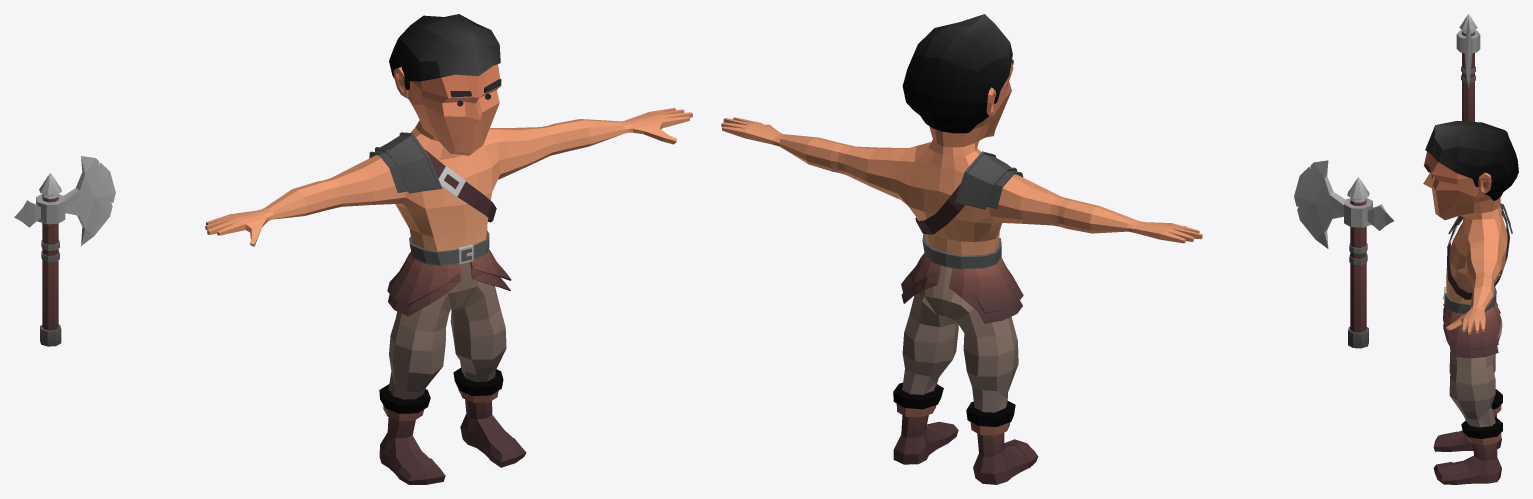
Rendered from low-poly-medivial-warrior-renderer.obj.
3 renders of one model, left to right at view 1: azimuth 30°, elevation 25°; view 2: azimuth 150°, elevation 25°; view 3: azimuth 270°, elevation 25°, orthographic. The views are drawn at different scales.
Visible parts, largest first — view 1: BaseMesh, Trousers, Bots, Axe, Hair, Belt_Wrap, Pauldron, Belt_Wrap.001, Belt, Baldric; view 2: BaseMesh, Trousers, Hair, Bots, Axe, Belt_Wrap, Pauldron, Belt_Wrap.001, Belt, Baldric; view 3: BaseMesh, Hair, Bots, Trousers, Axe, Belt_Wrap, Baldric, Belt_Wrap.001, Belt, Pauldron.
Boxes of the visible parts, x1,y1,x2,y2 form: BaseMesh: [205, 64, 692, 251]; Trousers: [388, 262, 506, 399]; Bots: [379, 368, 526, 484]; Axe: [14, 156, 115, 346]; Hair: [389, 14, 500, 98]; Belt_Wrap: [387, 249, 511, 305]; Pauldron: [369, 132, 442, 193]; Belt_Wrap.001: [388, 262, 510, 316]; Belt: [409, 230, 489, 265]; Baldric: [424, 149, 496, 222]; BaseMesh: [721, 62, 1202, 255]; Trousers: [902, 266, 1018, 412]; Hair: [902, 14, 1012, 133]; Bots: [893, 382, 1038, 484]; Axe: [1294, 160, 1393, 348]; Belt_Wrap: [901, 253, 1023, 313]; Pauldron: [955, 151, 1023, 209]; Belt_Wrap.001: [901, 272, 1022, 323]; Belt: [922, 235, 1001, 269]; Baldric: [915, 183, 964, 234]; BaseMesh: [1423, 152, 1507, 334]; Hair: [1425, 121, 1518, 200]; Bots: [1433, 389, 1502, 484]; Trousers: [1449, 303, 1502, 427]; Axe: [1456, 14, 1480, 121]; Belt_Wrap: [1443, 302, 1498, 350]; Baldric: [1447, 211, 1510, 299]; Belt_Wrap.001: [1443, 306, 1500, 358]; Belt: [1444, 286, 1496, 314]; Pauldron: [1448, 203, 1512, 234].
Size of the model in its own units: 2.73 by 1.68 by 0.4311.
Materials: 1 (1 with a texture image).
